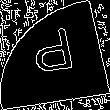P_S: (28, 26, 81, 84)
